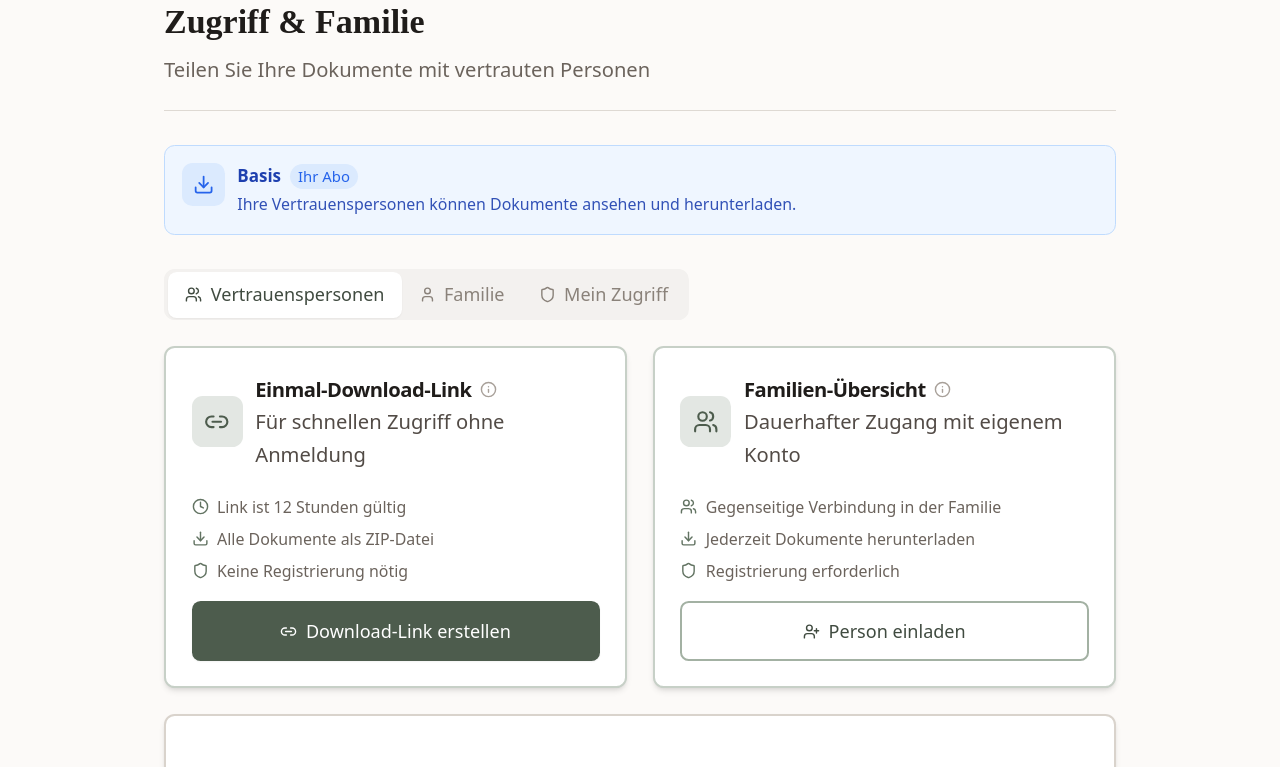
it: ZugriffPage Familie Tab Full Integration › Tier-Based UI Display in Familie Tab › Premium member should show "Dokumente laden" download button
Expected: the heading "Zugriff & Familie" is shown, x1=164 y1=3 x2=425 y2=40
// Switch to Familie tab
What coordinates should you click on to do the following:
click the tab "Familie"
I would click on:
 (462, 295)
Its box is x1=402 y1=272 x2=522 y2=318.
(page scrolled)
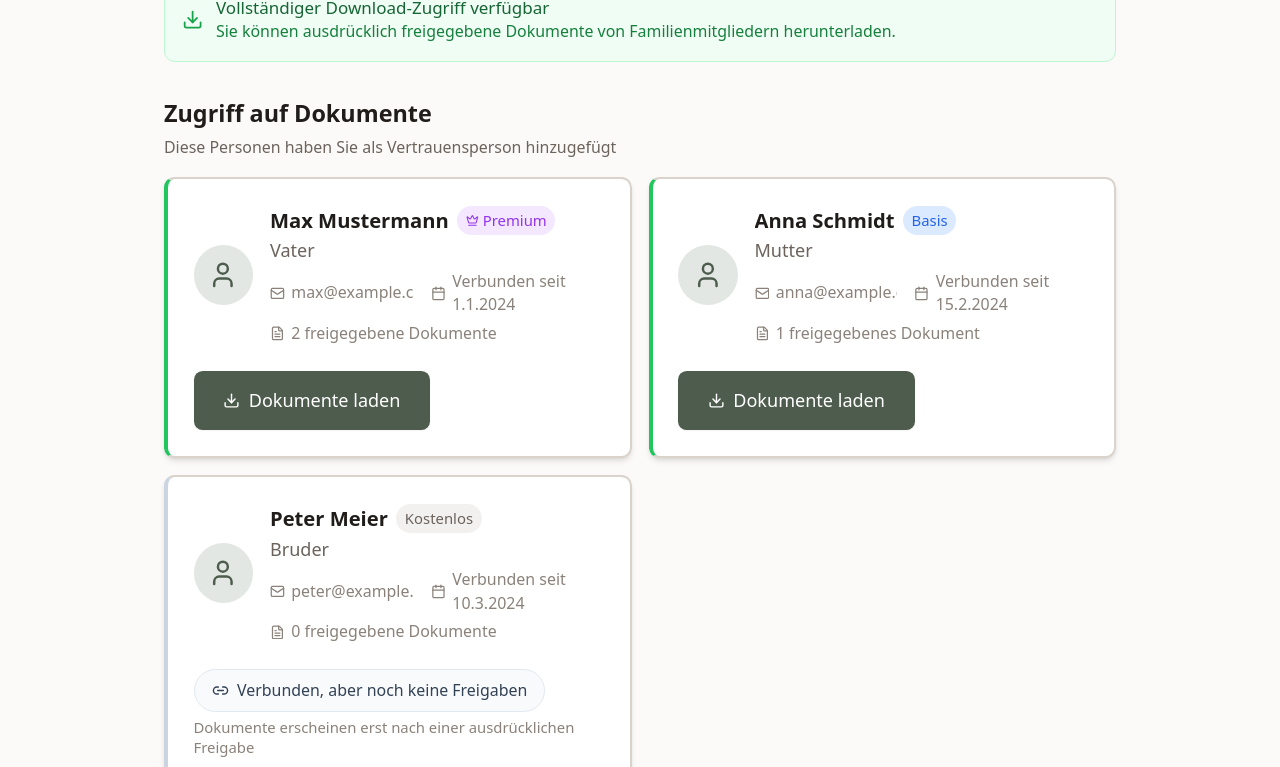
Expected: the button "Dokumente laden" below "1.1.2024" is shown, x1=194 y1=371 x2=430 y2=430
